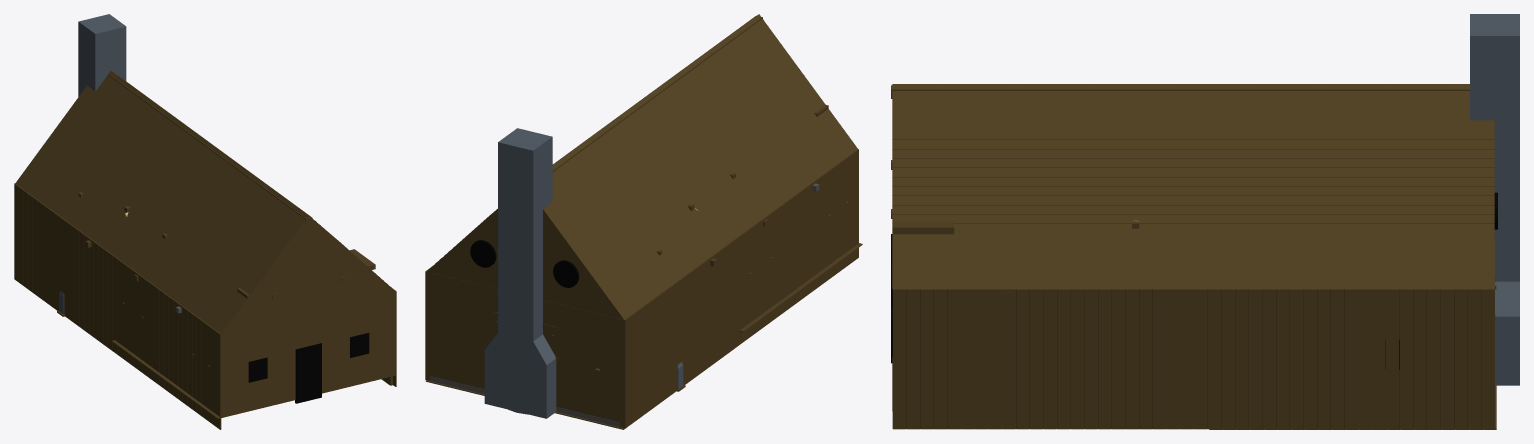
The model's file is Cabin_Blockout_02.fbx.
3 renders of one model, left to right at view 1: azimuth 30°, elevation 25°; view 2: azimuth 150°, elevation 25°; view 3: azimuth 270°, elevation 25°, orthographic. The views are drawn at different scales.
Parts seen in each view (by area): view 1: polySurface179; view 2: polySurface179; view 3: polySurface179.
Part boxes in pixels (bbox=[...]): polySurface179: bbox=[14, 14, 396, 429]; polySurface179: bbox=[425, 14, 862, 429]; polySurface179: bbox=[891, 14, 1519, 429].
Bounding box in the file's own units: 888 × 1111 × 1838.
